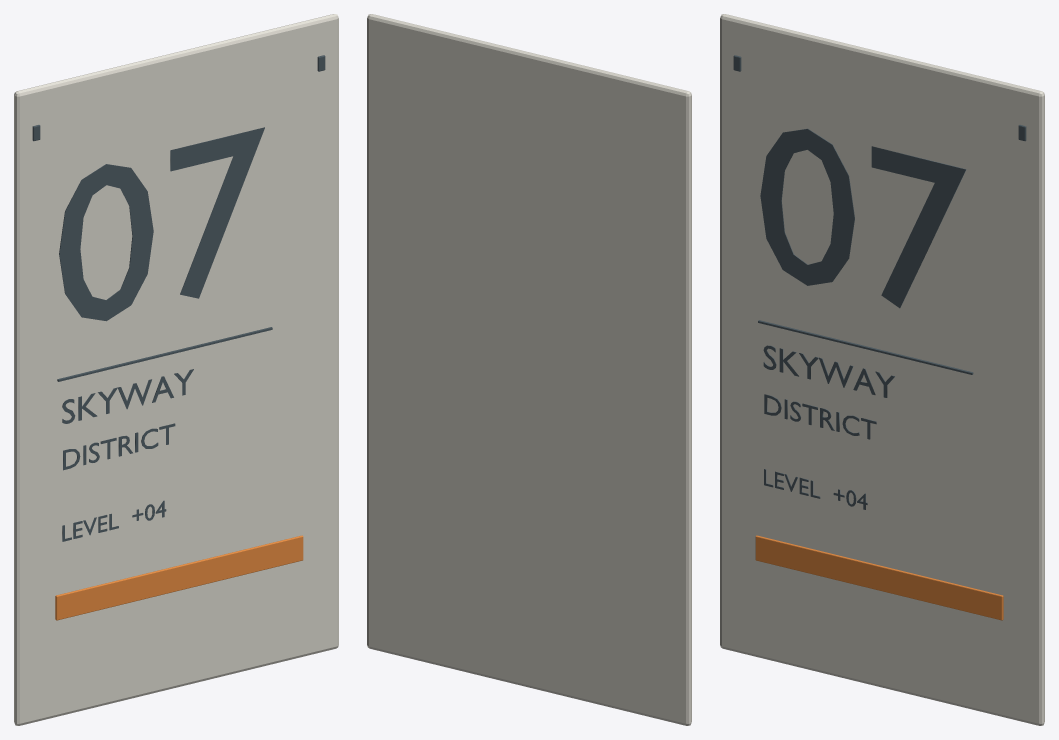
The model's file is Wayfinding07.fbx.
3 renders of one model, left to right at view 1: azimuth 30°, elevation 25°; view 2: azimuth 150°, elevation 25°; view 3: azimuth 330°, elevation 25°, orthographic.
Parts seen in each view (by area): view 1: Wayfinding07_SC_Concrete, Wayfinding07_SC_Metal, Wayfinding07_SC_Orange; view 2: Wayfinding07_SC_Concrete; view 3: Wayfinding07_SC_Concrete, Wayfinding07_SC_Metal, Wayfinding07_SC_Orange.
Part boxes in pixels (x1,y1,x2,y2): Wayfinding07_SC_Concrete: (14,14,338,725); Wayfinding07_SC_Metal: (32,55,325,541); Wayfinding07_SC_Orange: (55,535,303,620); Wayfinding07_SC_Concrete: (367,14,691,725); Wayfinding07_SC_Concrete: (720,14,1044,725); Wayfinding07_SC_Metal: (733,55,1026,509); Wayfinding07_SC_Orange: (755,535,1003,620).
Size of the model in its own units: 2.75 by 5.15 by 0.084.
